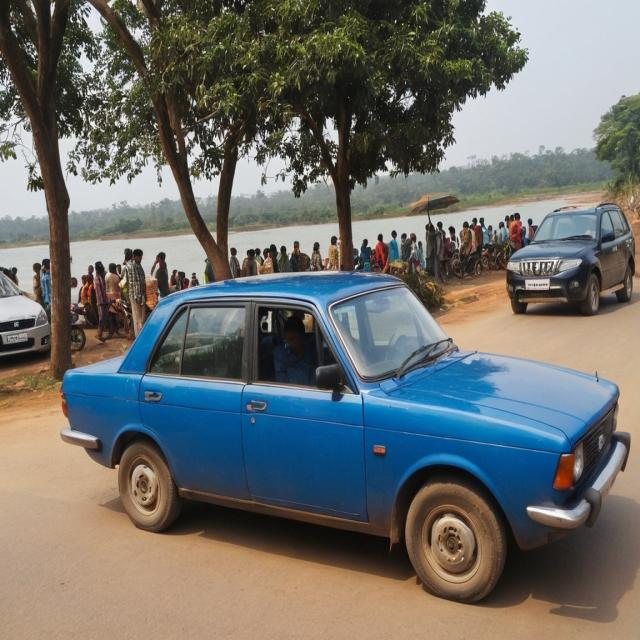black: (507, 199, 640, 332)
blue: (78, 272, 625, 580)
